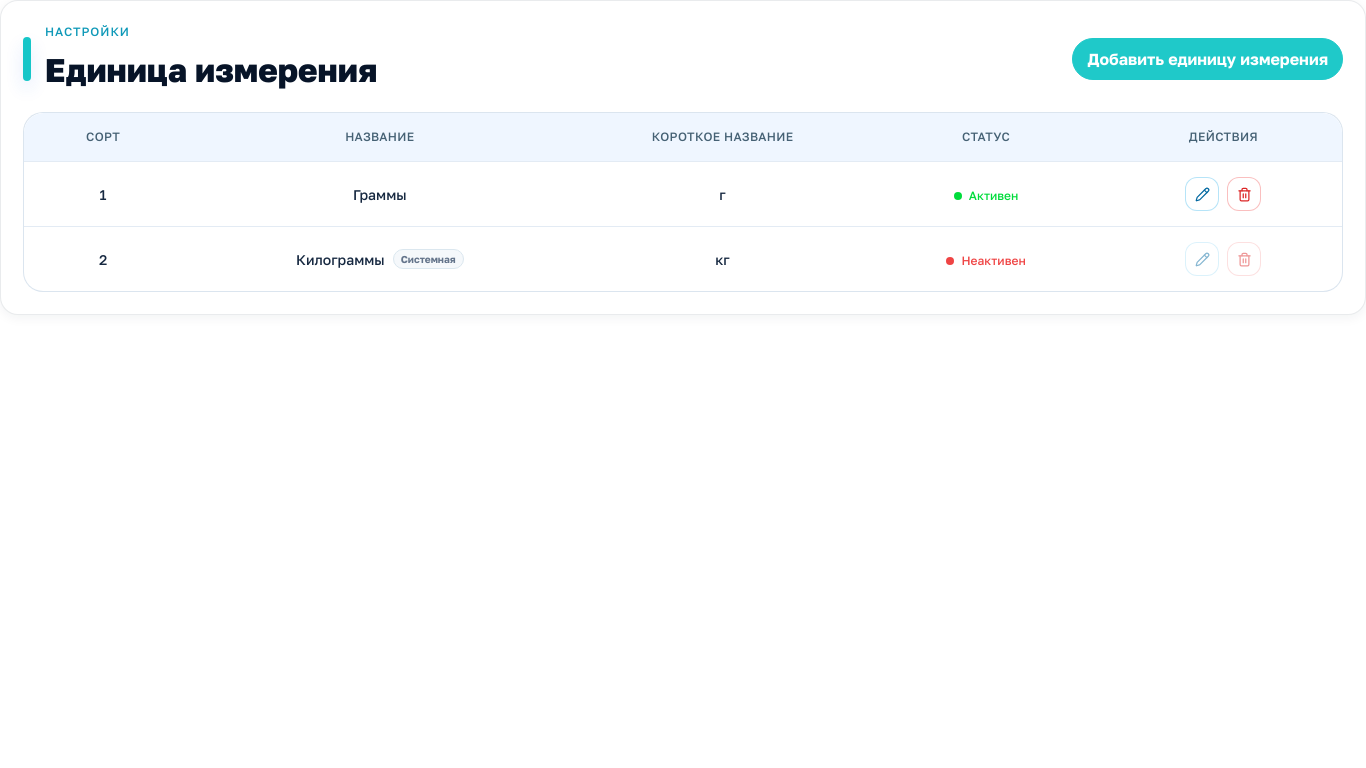
it: SettingsUnitsPage — real owner mutations and truthful errors › company row edit and status use the real PATCH response
The width and height of the screenshot is (1366, 768).
Expected: the text "Граммы" is shown, [353,184,407,205]
Step 1. Click the button named "Редактировать" → (1202, 194), box [1185,177,1219,211]
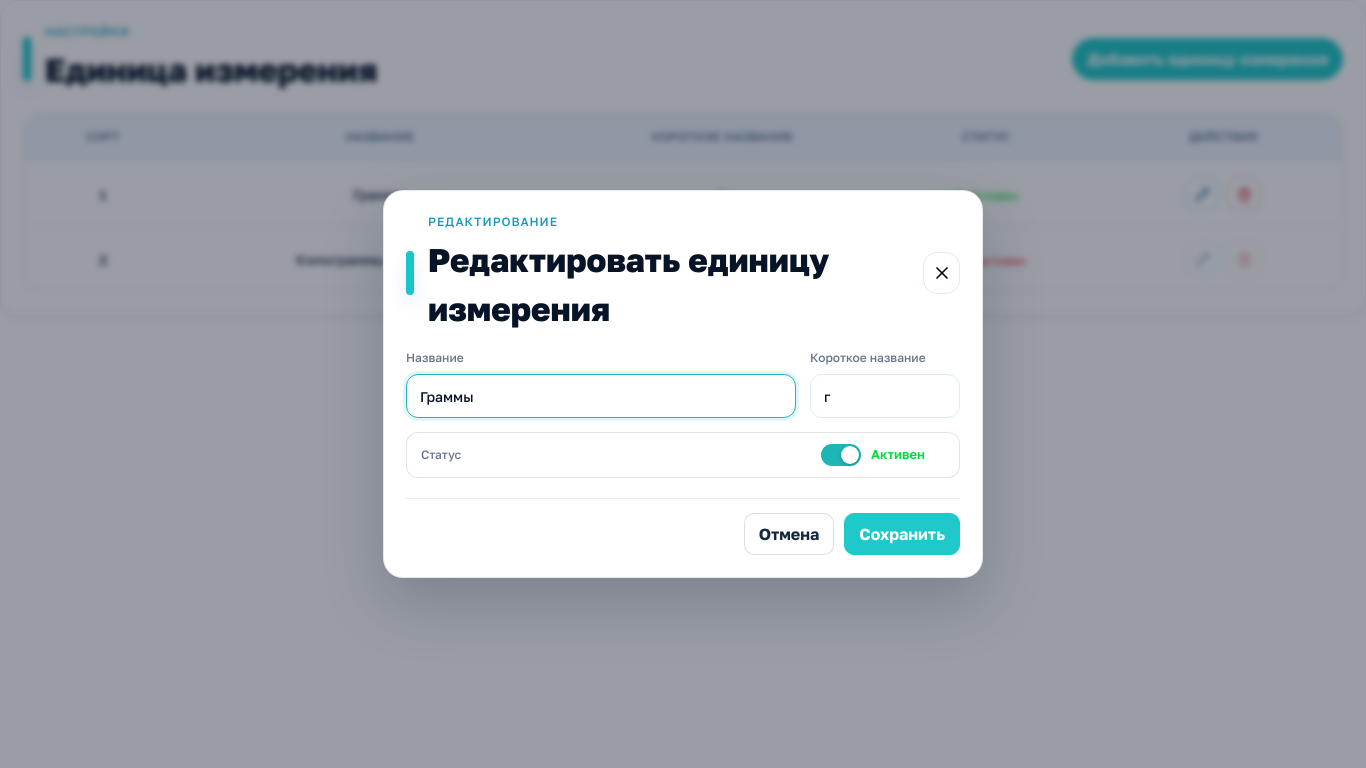
Step 2. Replace the text in the field labelled "Название" with "Граммы edited" → (601, 396), box [406,374,796,418]
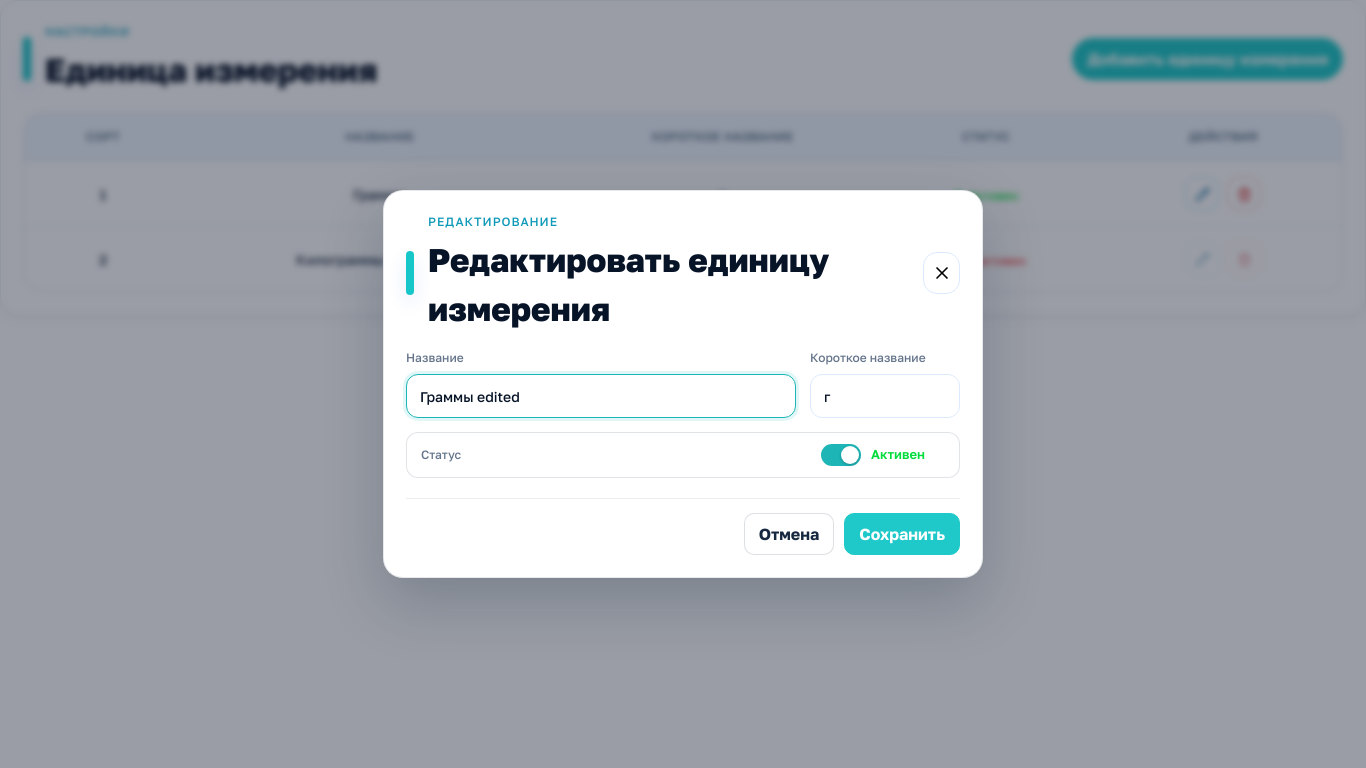
Step 3. Click the checkbox labelled "Активен" → (873, 455), box [821,444,925,466]
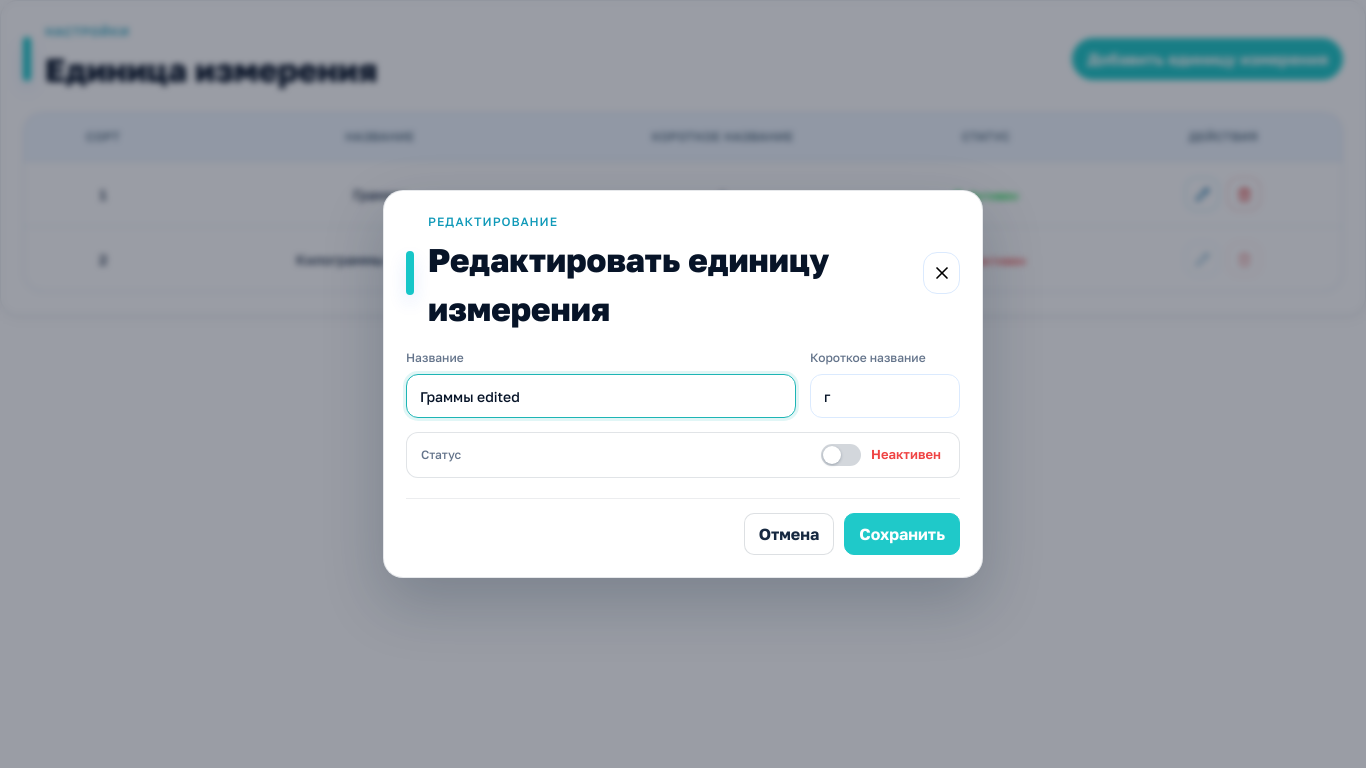
Step 4. Click the button "Сохранить" → (902, 534), box [844,513,960,555]
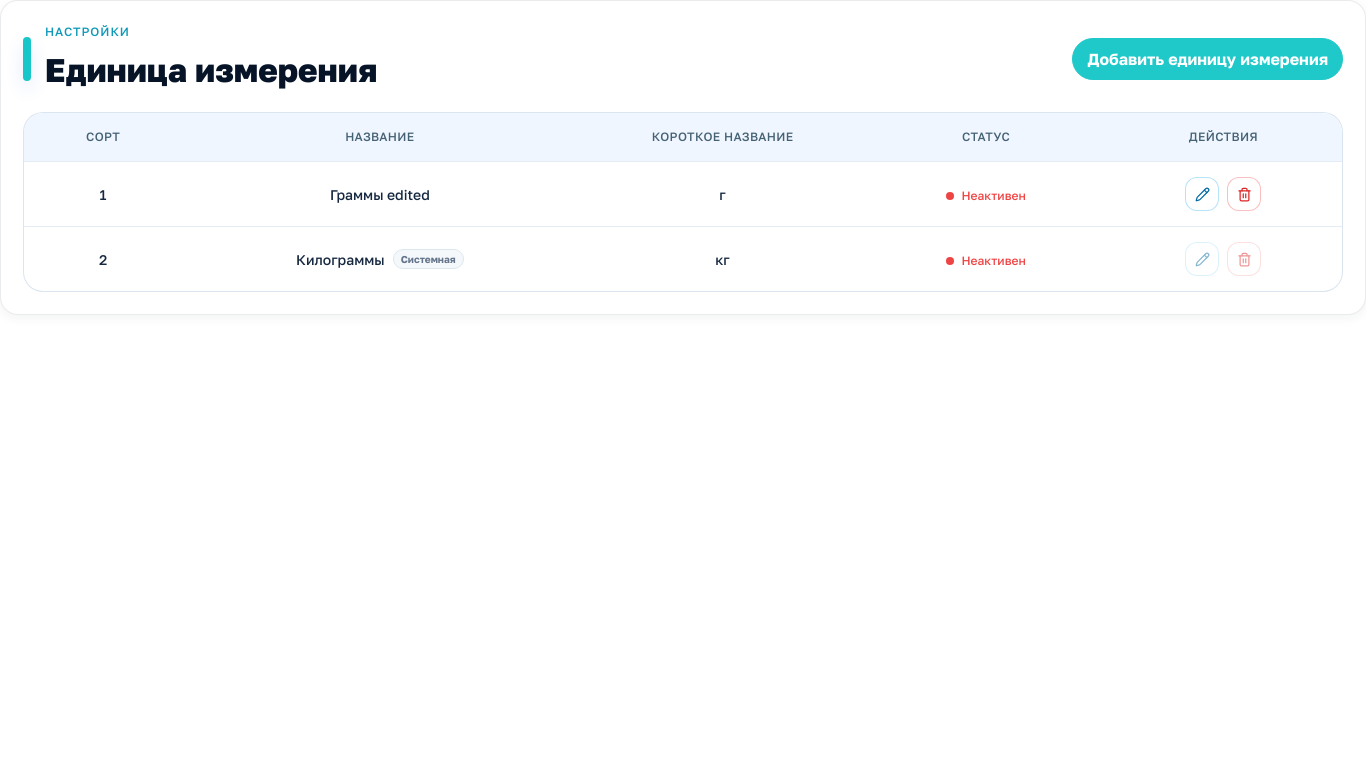
Expected: the text "Неактивен" is shown, [946,187,1026,205]
